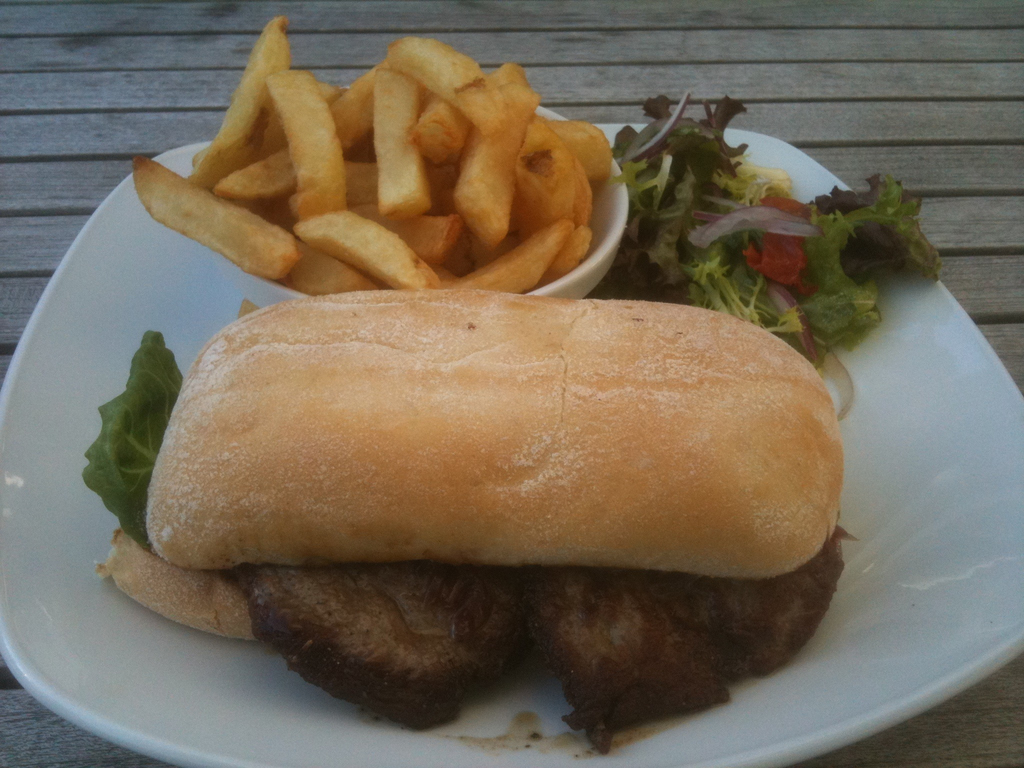French fries: (133, 14, 613, 305)
